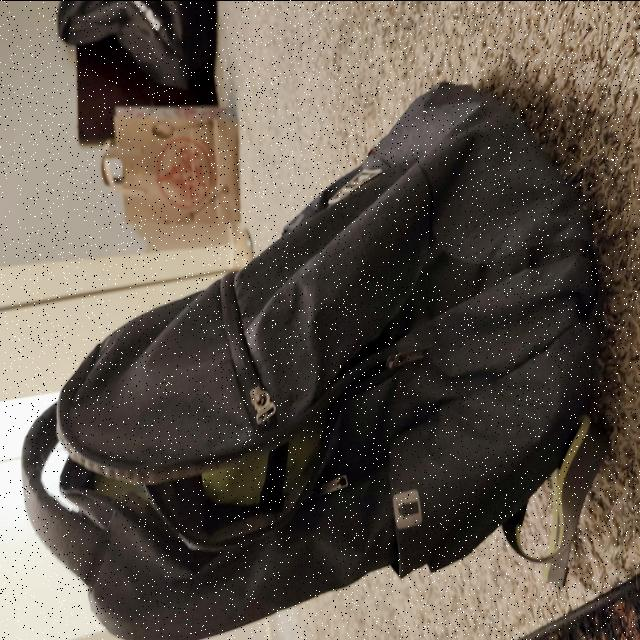bag: (39, 87, 566, 592)
